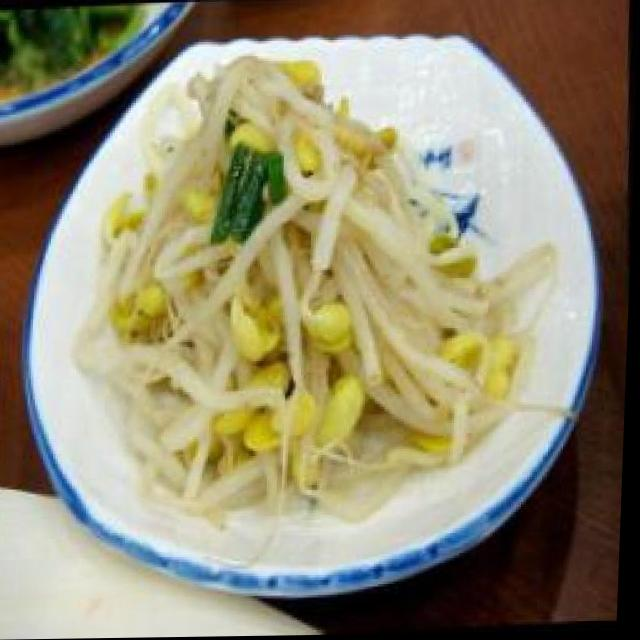mung_bean_sprouts: (123, 94, 488, 501)
